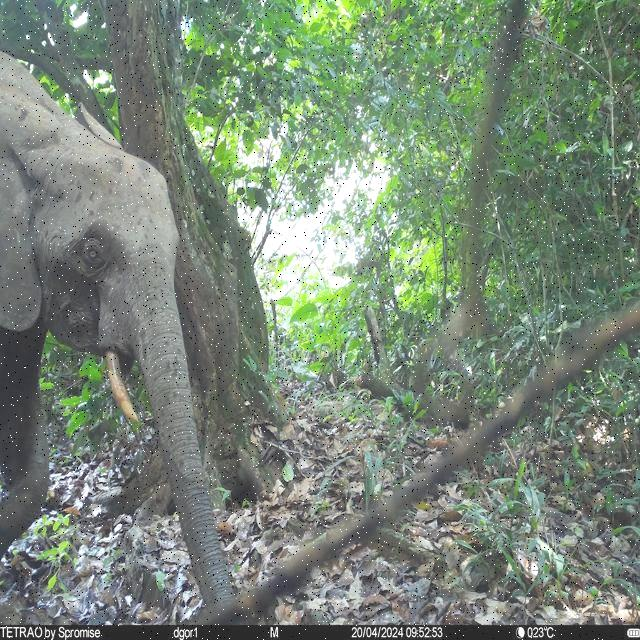ear: (0, 150, 44, 338), (75, 104, 125, 154)
elephant: (0, 48, 238, 618)
tusk: (105, 350, 144, 426)
